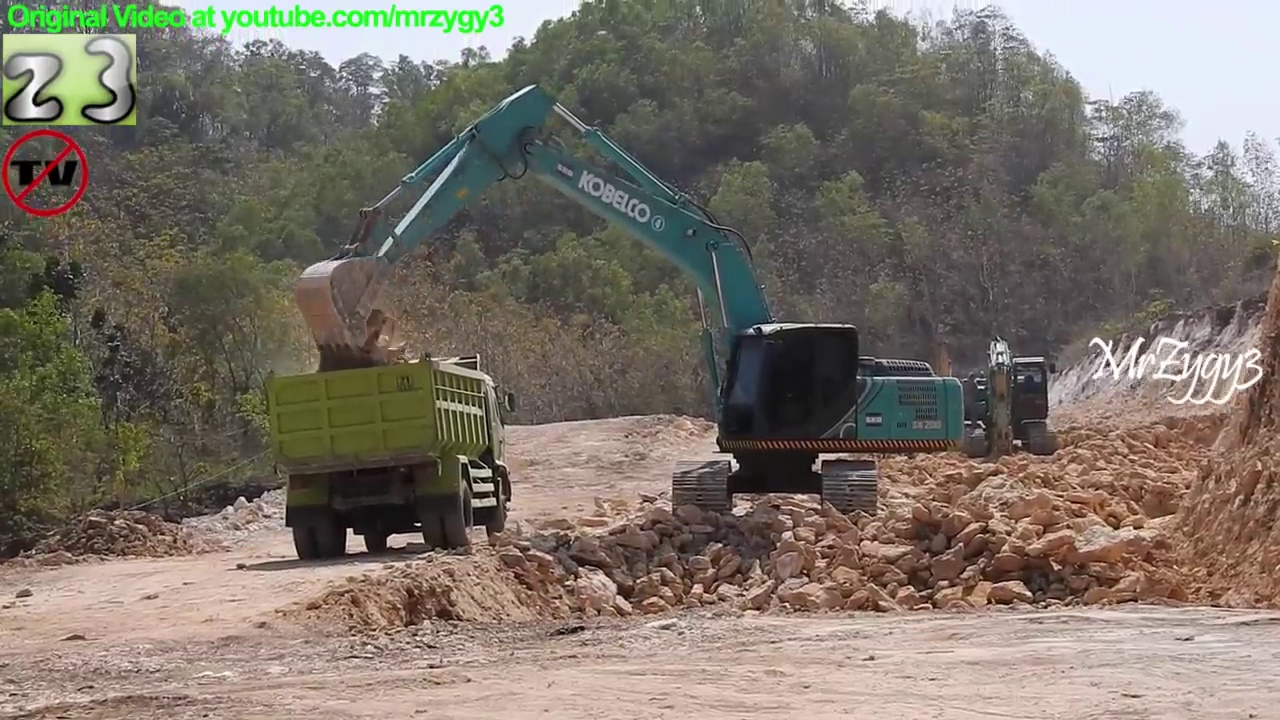excavator: (289, 78, 977, 528), (937, 326, 1065, 472), (893, 316, 986, 440)
truck: (264, 347, 522, 565)
